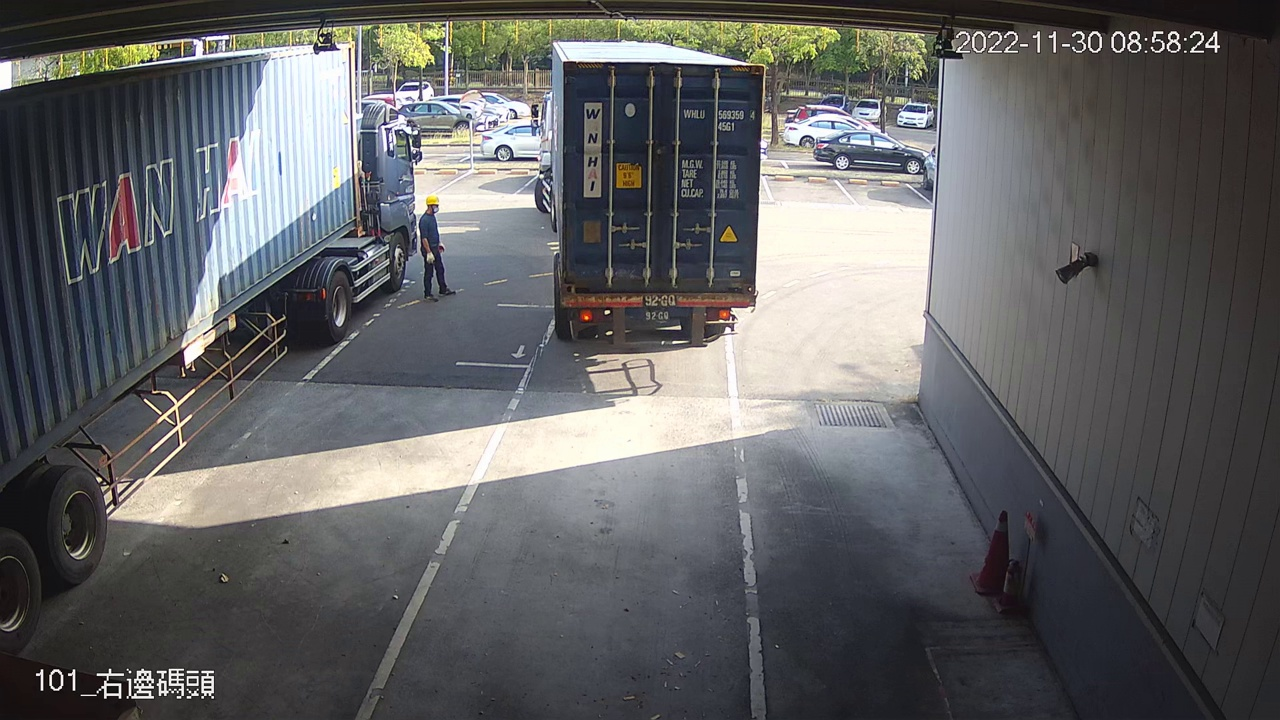container: (681, 105, 759, 137)
